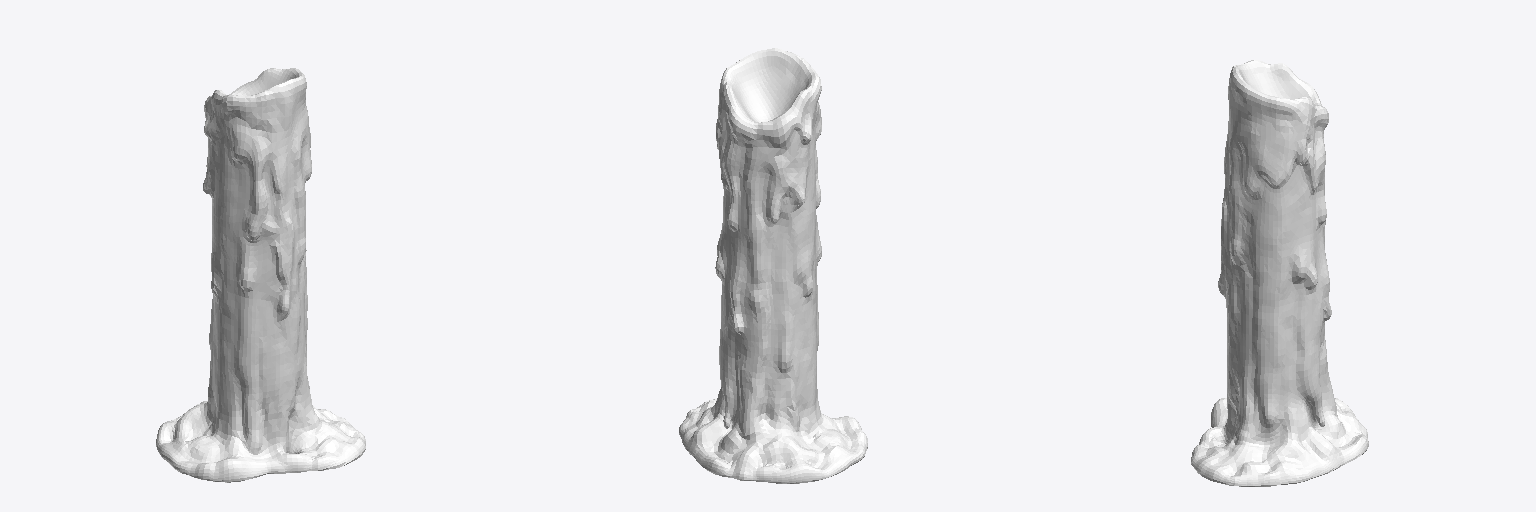
File: candle_2.obj
The picture shows the model from 3 angles: view 1: azimuth 30°, elevation 25°; view 2: azimuth 150°, elevation 25°; view 3: azimuth 270°, elevation 25°; orthographic projection.
Parts seen in each view (by area): view 1: candle_2; view 2: candle_2; view 3: candle_2.
Boxes of the visible parts, x1,y1,x2,y2 form: candle_2: [156, 68, 365, 482]; candle_2: [679, 48, 867, 483]; candle_2: [1191, 60, 1368, 486].
Size of the model in its own units: 0.1344 by 0.2781 by 0.1189.